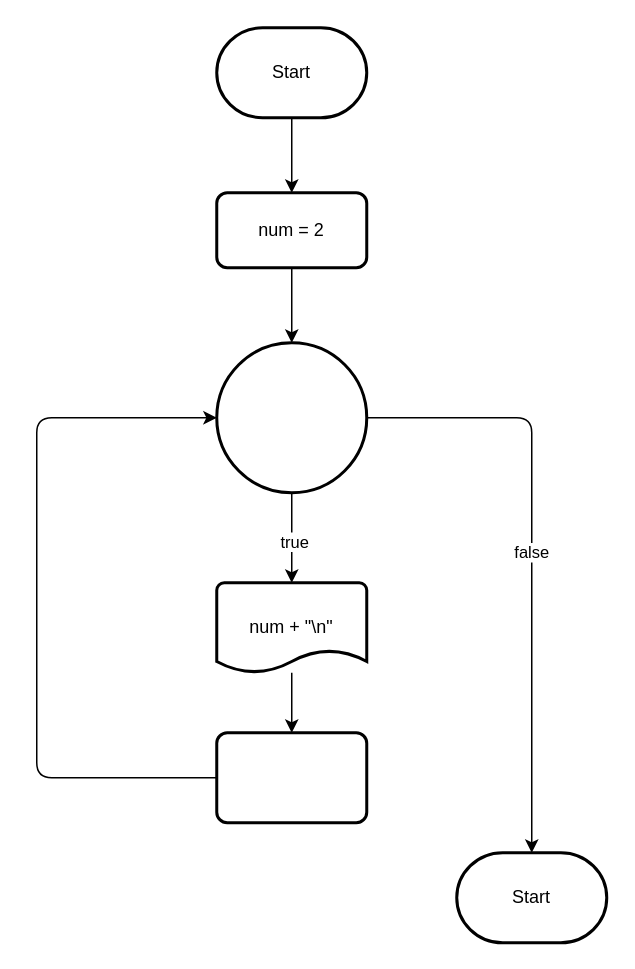
This 635x969 diagram has some shape labels left out. Here are the shapes that lost their labels. From the top down, the centre of each, then its label:
(x=291, y=417): while num <=1000
(x=291, y=777): num = num + 2
